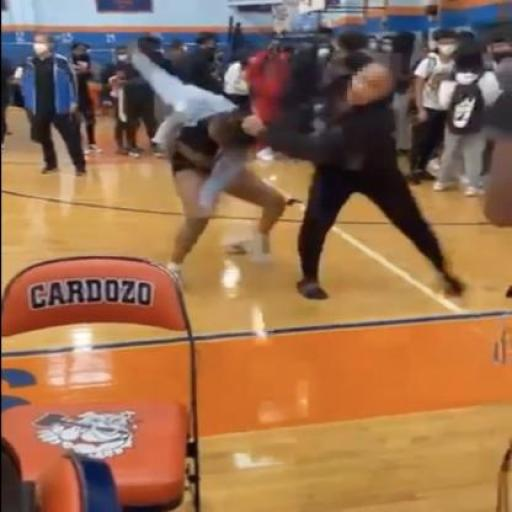Fighting: (122, 26, 473, 300)
